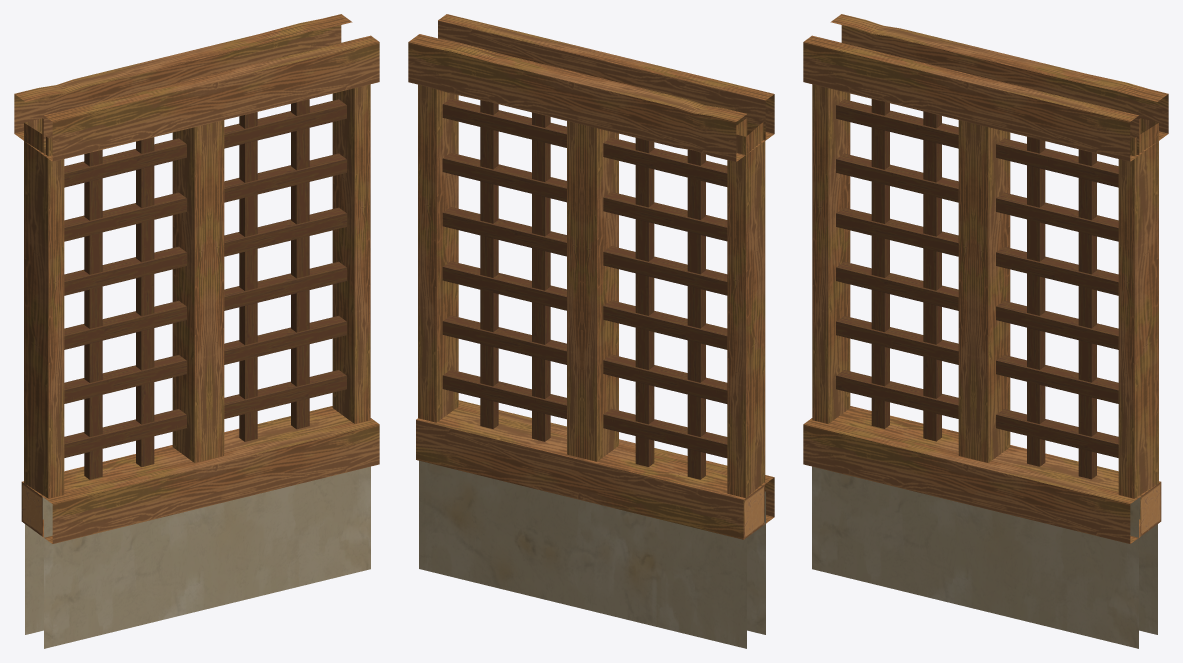
Rendered from Wall_Plaster_WoodGrid.gltf.
The picture shows the model from 3 angles, left to right: view 1: azimuth 30°, elevation 25°; view 2: azimuth 150°, elevation 25°; view 3: azimuth 330°, elevation 25°; orthographic projection.
Visible parts, largest first — view 1: Wall_Plaster_WoodGrid; view 2: Wall_Plaster_WoodGrid; view 3: Wall_Plaster_WoodGrid.
Part boxes in pixels (bbox=[...]): Wall_Plaster_WoodGrid: bbox=[14, 14, 379, 648]; Wall_Plaster_WoodGrid: bbox=[408, 14, 774, 648]; Wall_Plaster_WoodGrid: bbox=[803, 14, 1168, 648].
Size of the model in its own units: 2 by 3.12 by 0.4065.
2 materials, 2 textured.
